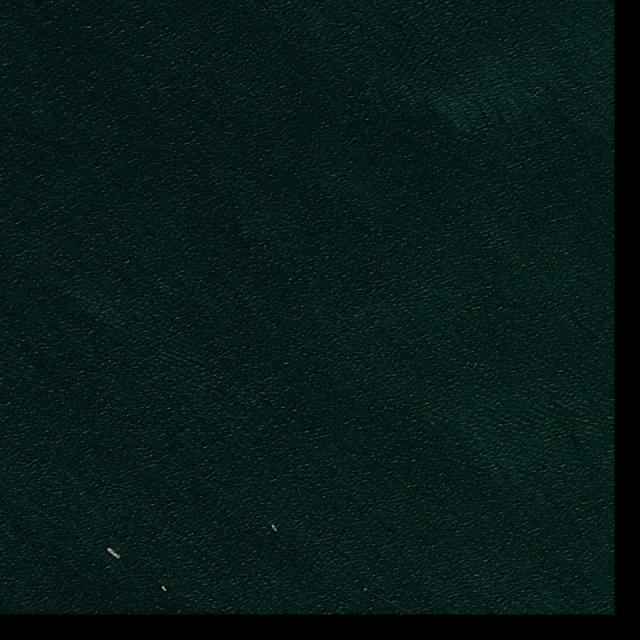ship: (106, 546, 119, 559), (270, 524, 278, 532), (160, 585, 167, 593)
